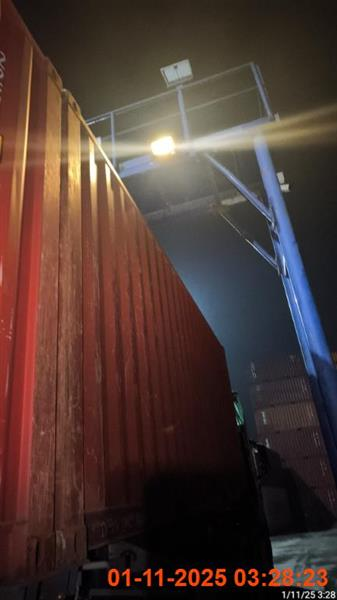broken: (0, 1, 277, 598)
